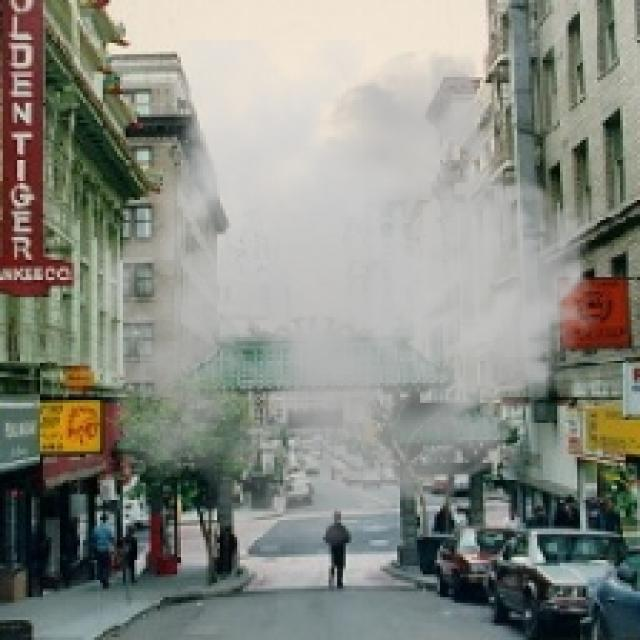Smoke: (74, 40, 609, 557)
